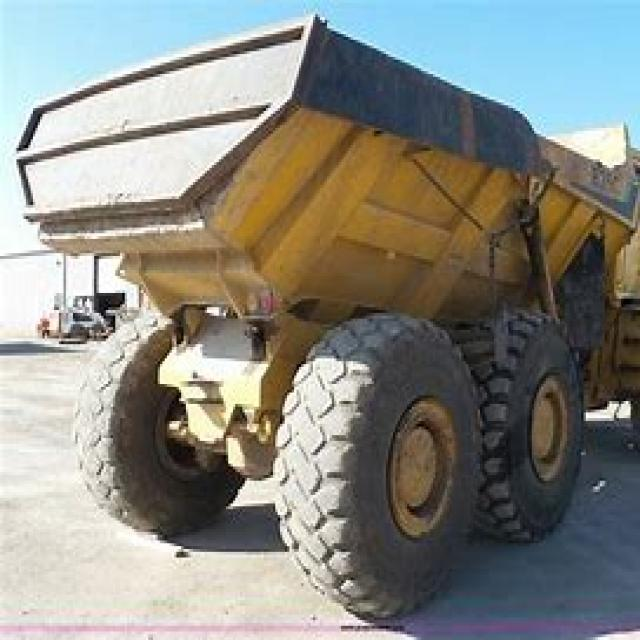dump_truck: (12, 14, 638, 623)
